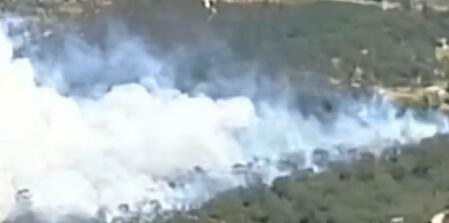smoke: (1, 16, 449, 212)
